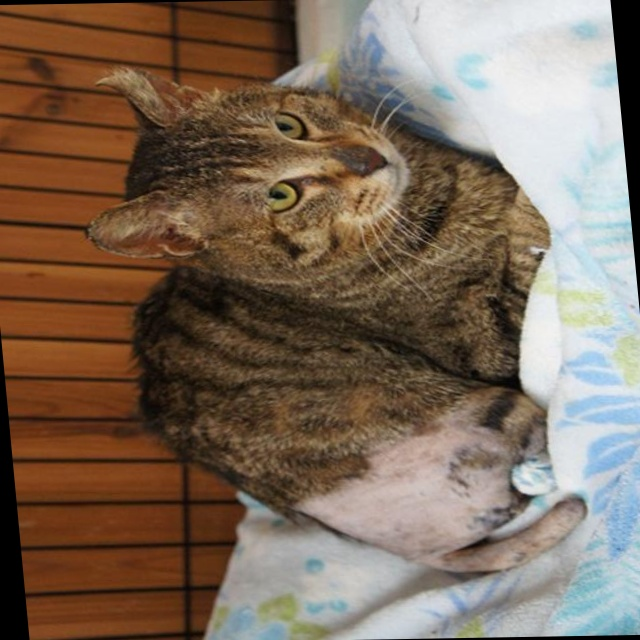hairloss: (298, 426, 538, 558)
